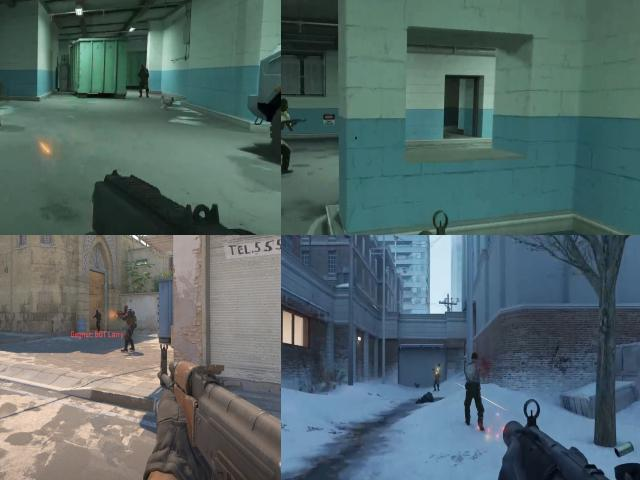CT: (123, 304, 136, 350), (138, 63, 150, 86), (433, 366, 442, 389), (95, 308, 101, 331)
CT-Head: (124, 304, 130, 312), (96, 309, 99, 313)
Dead: (414, 388, 438, 406)
T: (464, 358, 484, 394), (281, 97, 294, 138)
T-Head: (469, 351, 482, 369), (281, 98, 292, 111)
